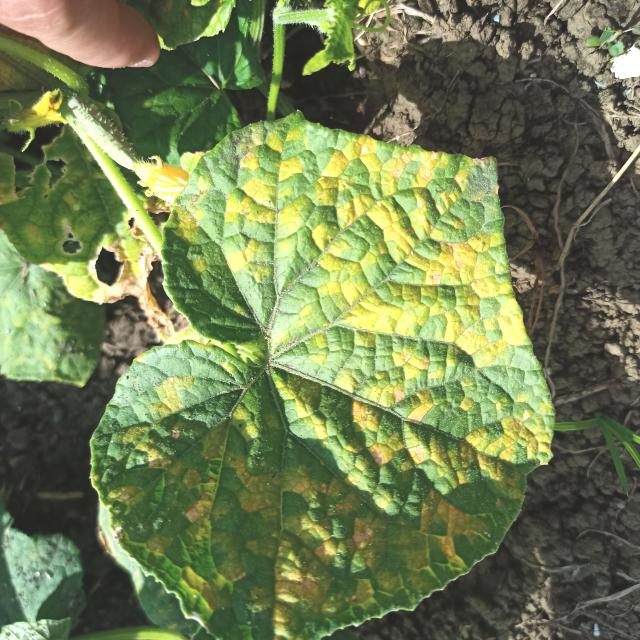disease_cucumber: (105, 129, 544, 627)
